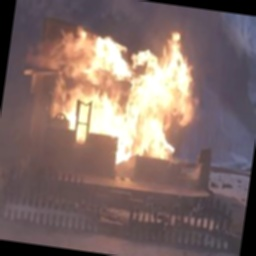fire: (33, 16, 206, 162)
